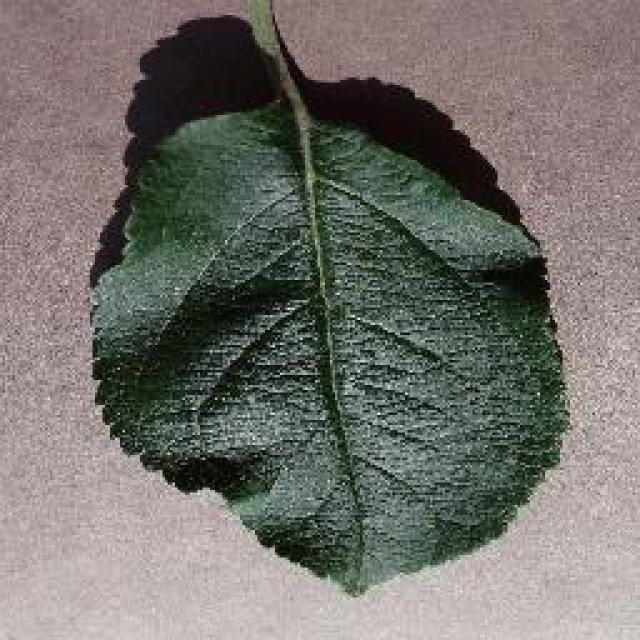apple healthy: (88, 0, 572, 598)
